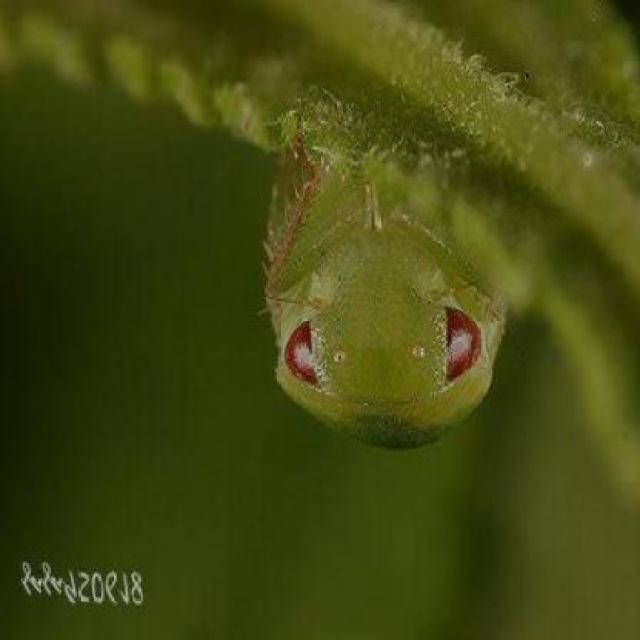green-leafhopper: (268, 133, 512, 455)
